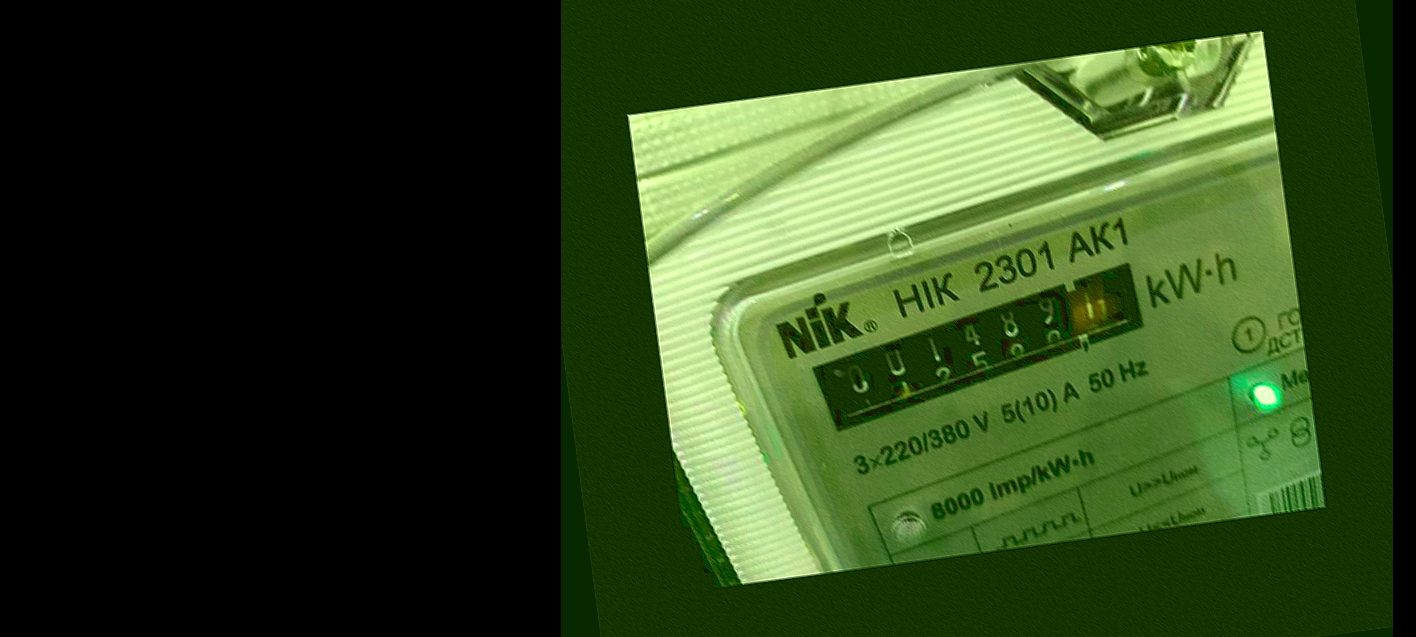0: (880, 340, 910, 379), (844, 359, 872, 397)
1: (1077, 283, 1101, 323), (923, 331, 947, 365)
4: (959, 316, 985, 350)
8: (998, 303, 1023, 341)
9: (1036, 292, 1060, 326)
screen: (792, 247, 1183, 446)
